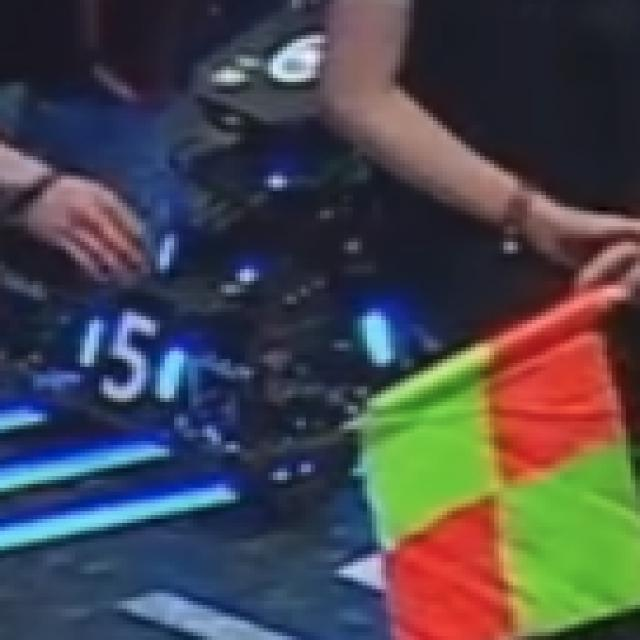B5: (75, 300, 179, 426)
